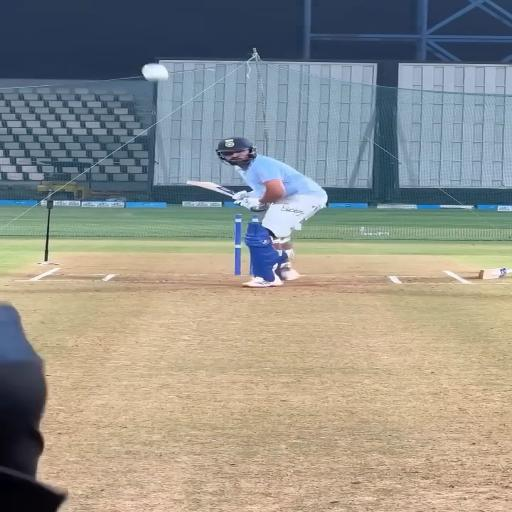Cricket bat: (186, 180, 235, 198)
